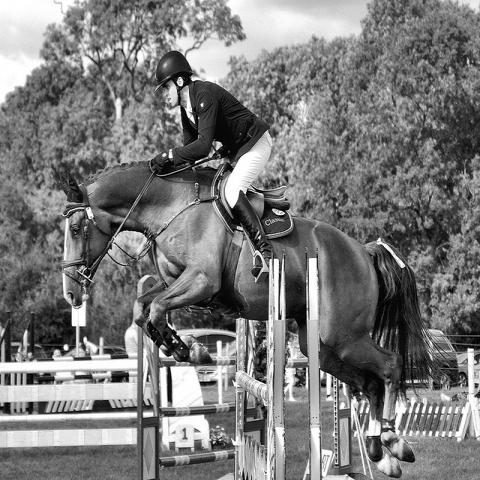car: (427, 327, 459, 393), (184, 330, 236, 354), (457, 352, 479, 389), (11, 342, 49, 362), (102, 345, 128, 359)
